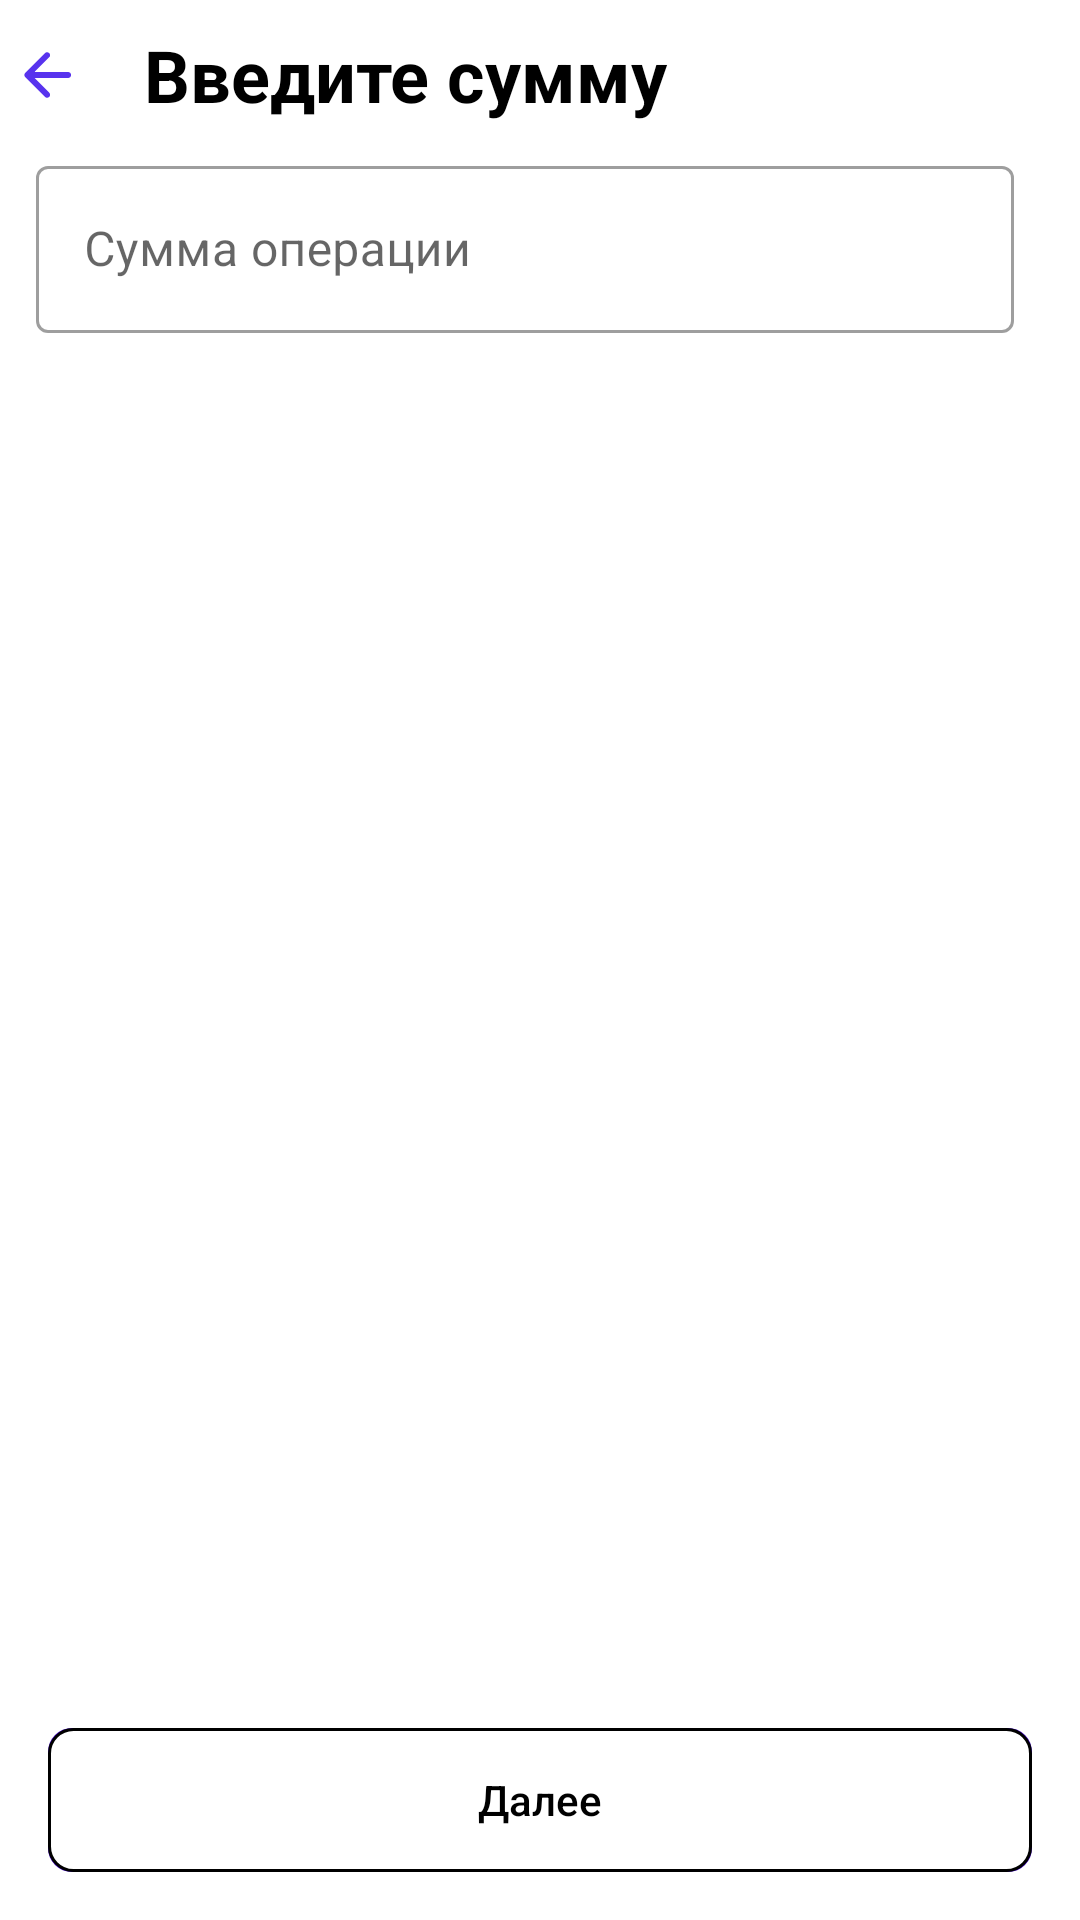

Icons on this 1080*1920 Android screen, each with the point to tap as (x,y):
back arrow: (47,75)
